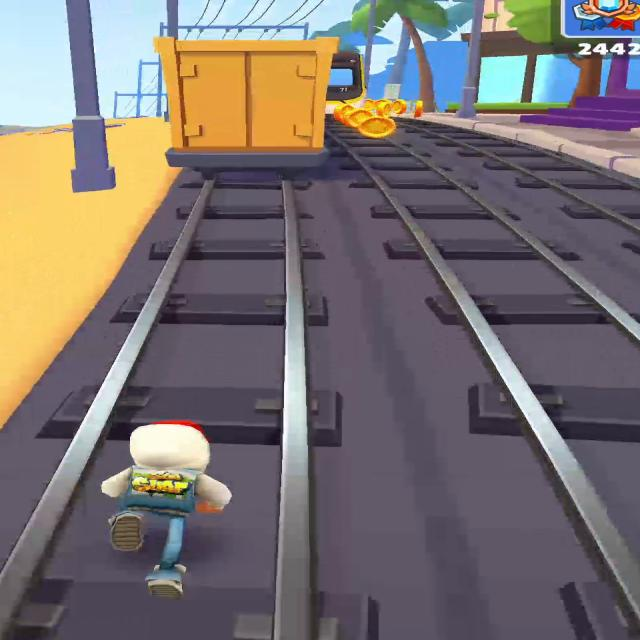train: (155, 37, 349, 179), (326, 51, 364, 104)
